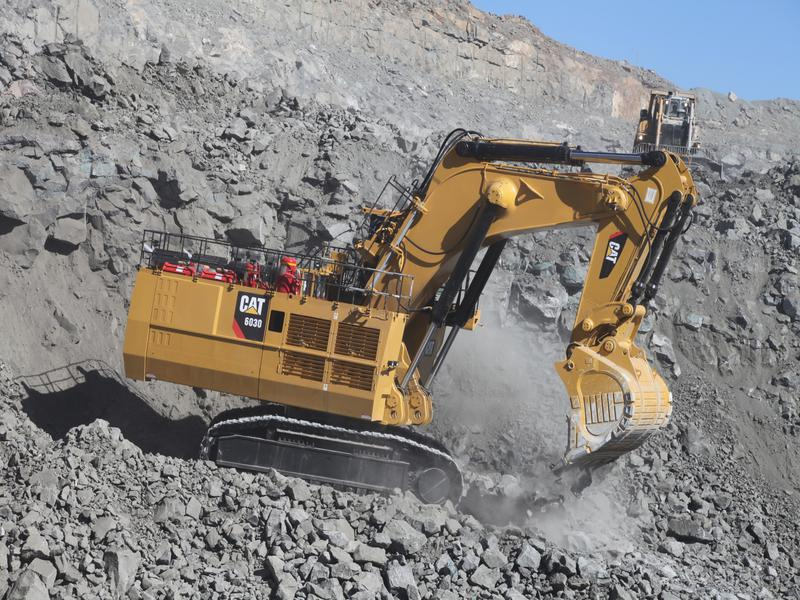shovel: (117, 125, 702, 521)
